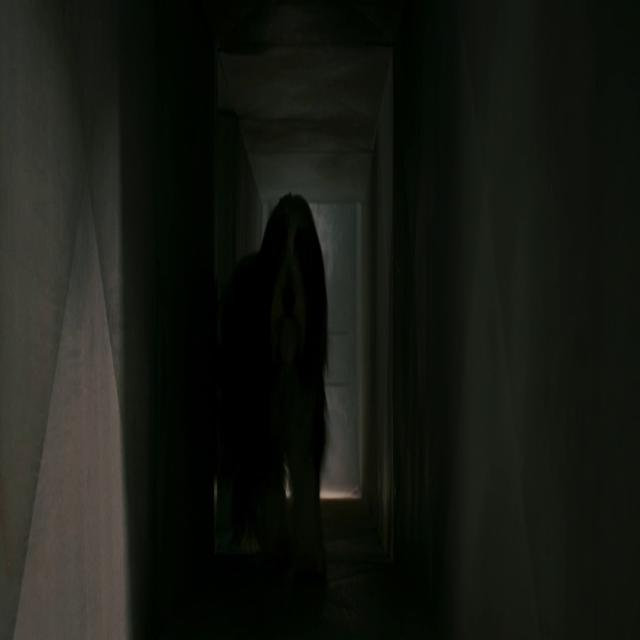dog: (189, 182, 337, 537)
